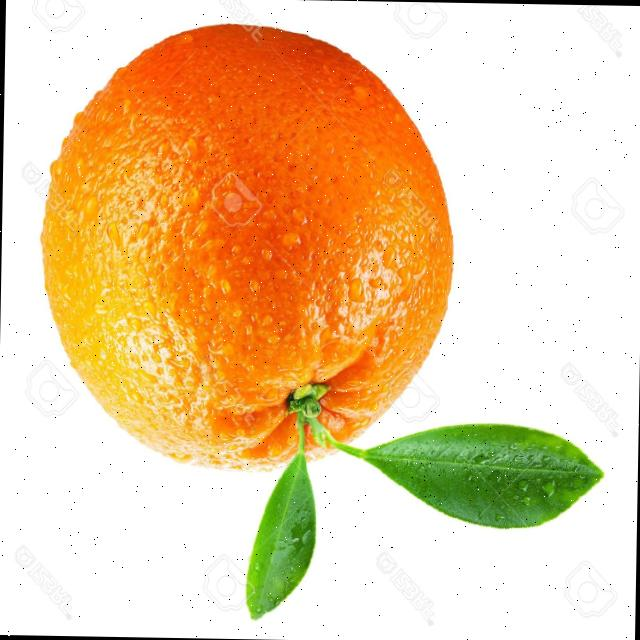Jeruk: (35, 19, 458, 476)
